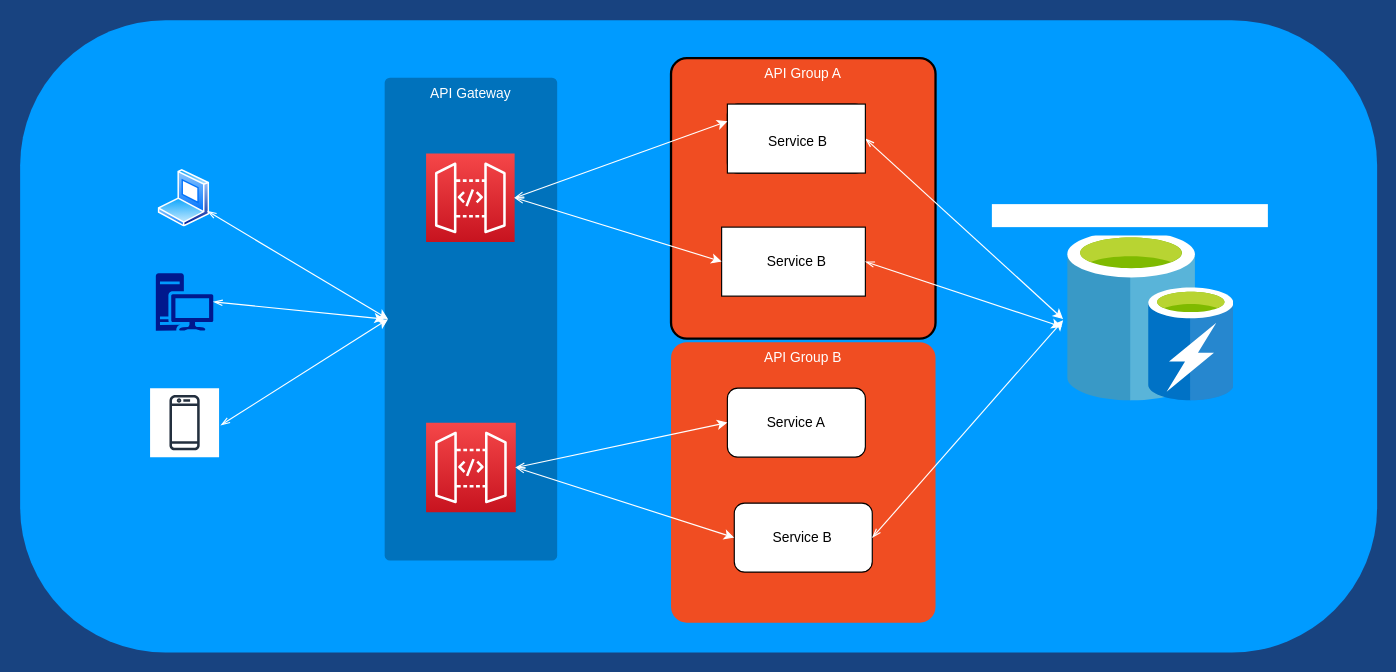
The diagram is 1396 pixels wide and 672 high, and some of its shapes have lost their labels. Each missing label, with the centre of its shape:
Availability Zone 1: the point at 470,197
Availability Zone 2: the point at 470,466
Cache( Redis/Azure Cache) + Cosmos DB: the point at 1129,215
Mobile client: the point at 184,422
